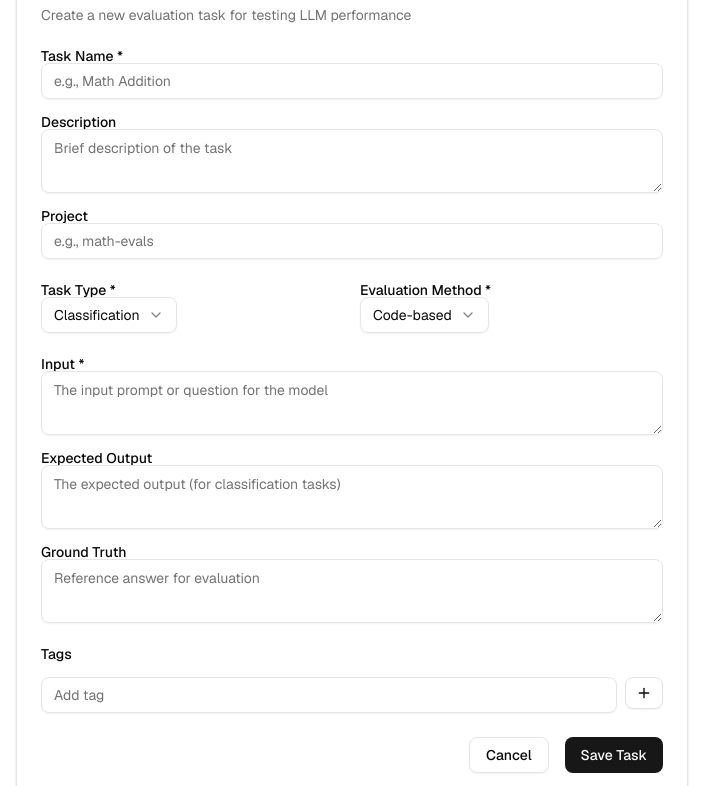
Test: TaskForm › validates required fields
(page scrolled)
Click the button "Save Task".
click(614, 755)  # box [565, 737, 663, 773]
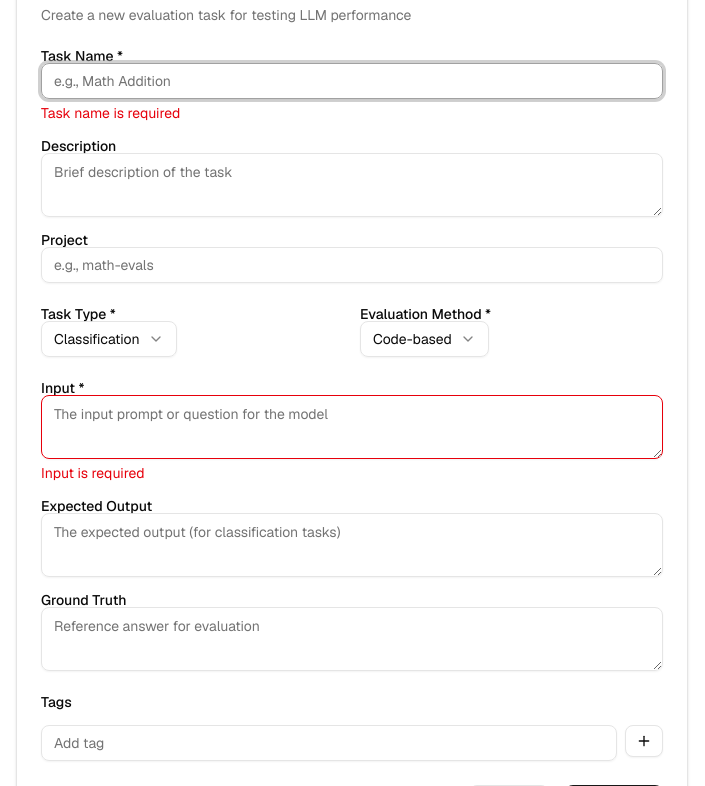
Expected: the text "Task name is required" is shown, [41, 104, 180, 122]
Expected: the text "Input is required" is shown, [41, 464, 144, 482]
